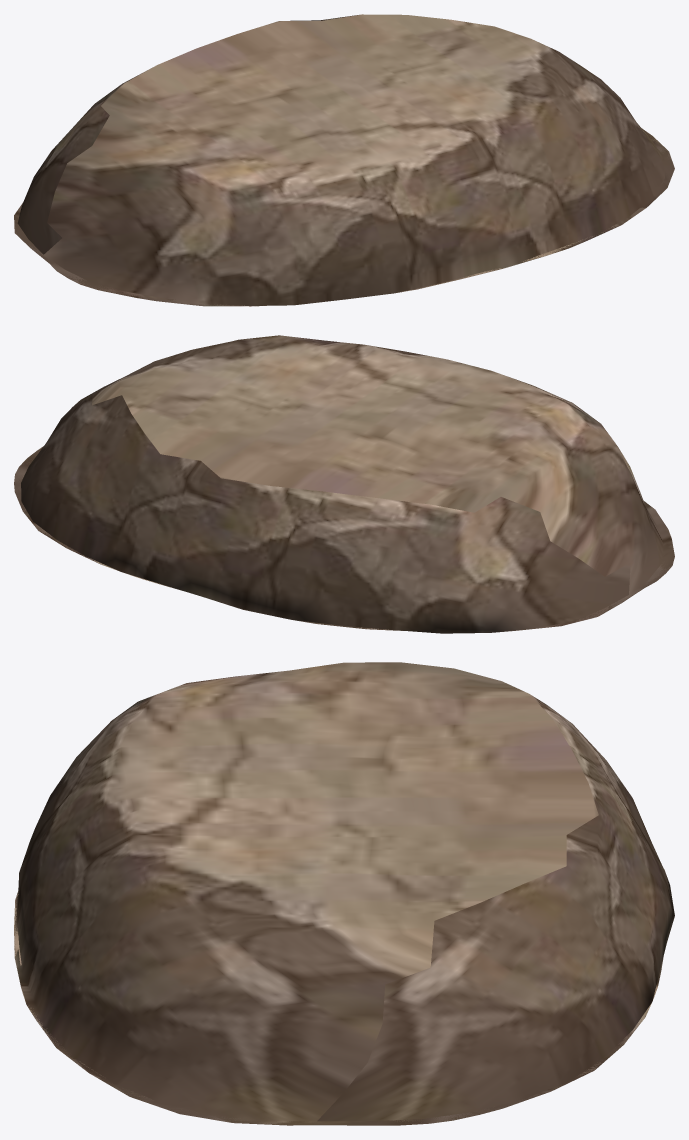
The model's file is flat-rock.glb.
3 renders of one model, top to bottom at view 1: azimuth 30°, elevation 25°; view 2: azimuth 150°, elevation 25°; view 3: azimuth 270°, elevation 25°, orthographic. The views are drawn at different scales.
Parts seen in each view (by area): view 1: flat-rock; view 2: flat-rock; view 3: flat-rock.
Boxes of the visible parts, x1=… form: flat-rock: x1=14, y1=14, x2=674, y2=306; flat-rock: x1=14, y1=335, x2=674, y2=633; flat-rock: x1=14, y1=662, x2=674, y2=1125.
Bounding box in the file's own units: 1.26 × 0.2051 × 0.8858.
1 material, 1 textured.
